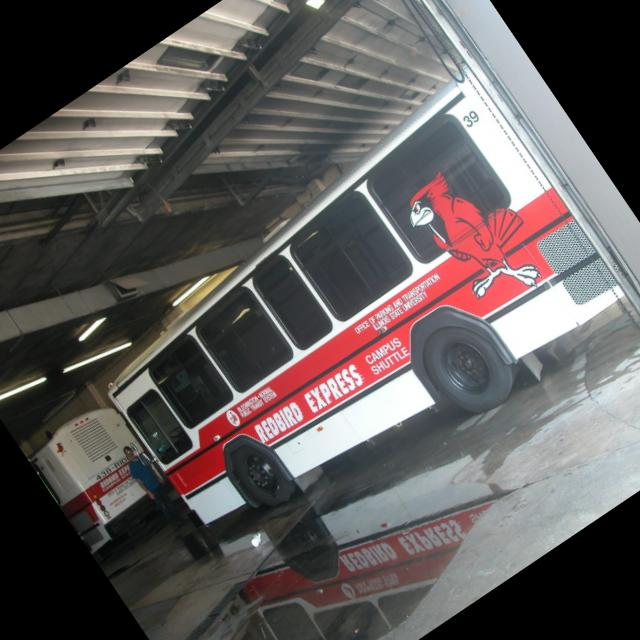bus: (68, 61, 640, 583), (20, 388, 178, 554)
